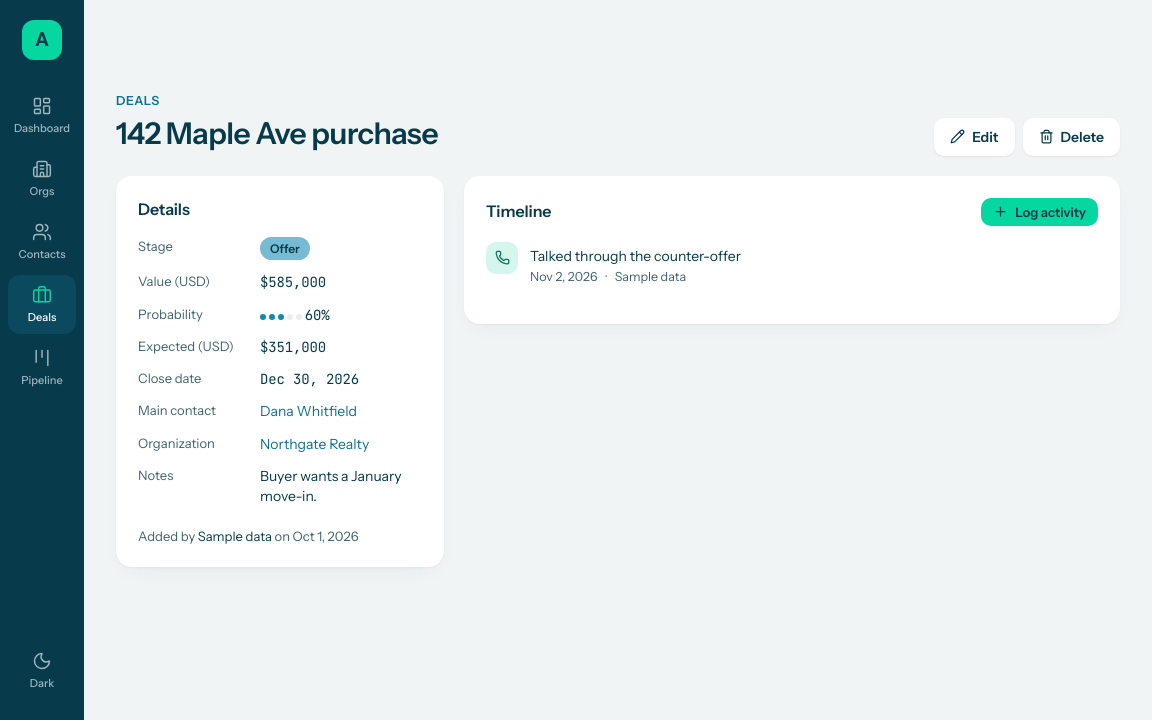
Test: a deal's page › deletes the deal and goes back to the deals list
Click the button "Delete". click: (1071, 137)
box: [1022,118,1120,156]
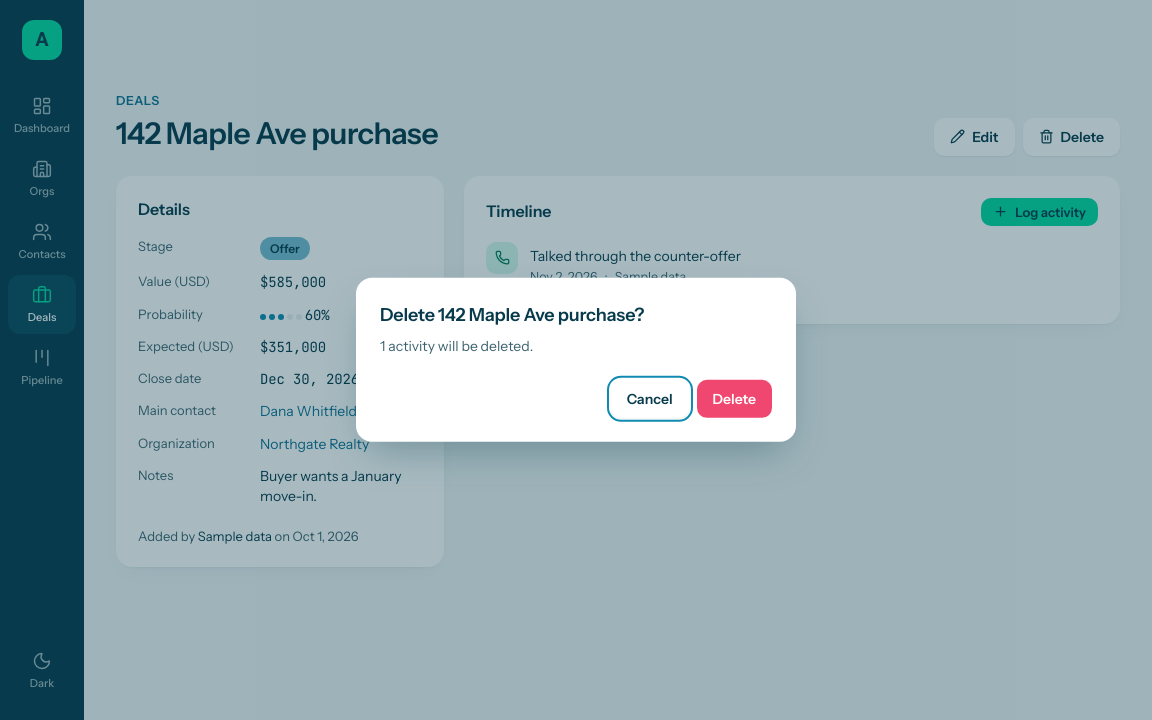
Expected: the text "1 activity will be deleted." is shown, [380,337,533,355]
Click the button "Delete". click: (734, 399)
box: [696,380,772,418]
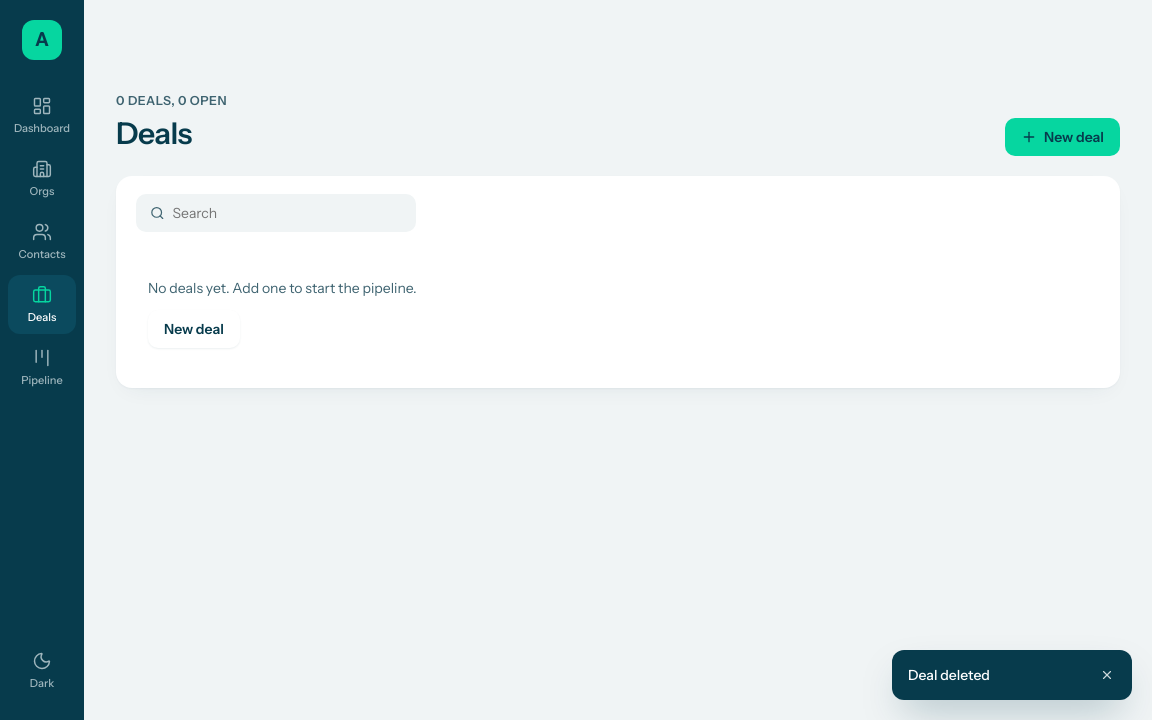
Expected: the heading "Deals" is shown, [116,115,192,152]
Expected: the text "Deal deleted" is shown, [908,666,990,684]
